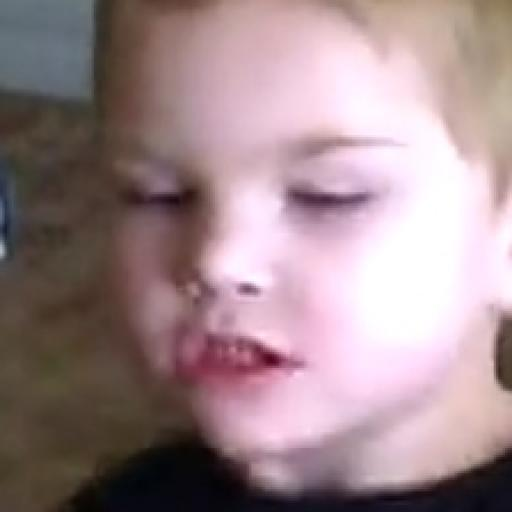Autism: (92, 0, 506, 461)
